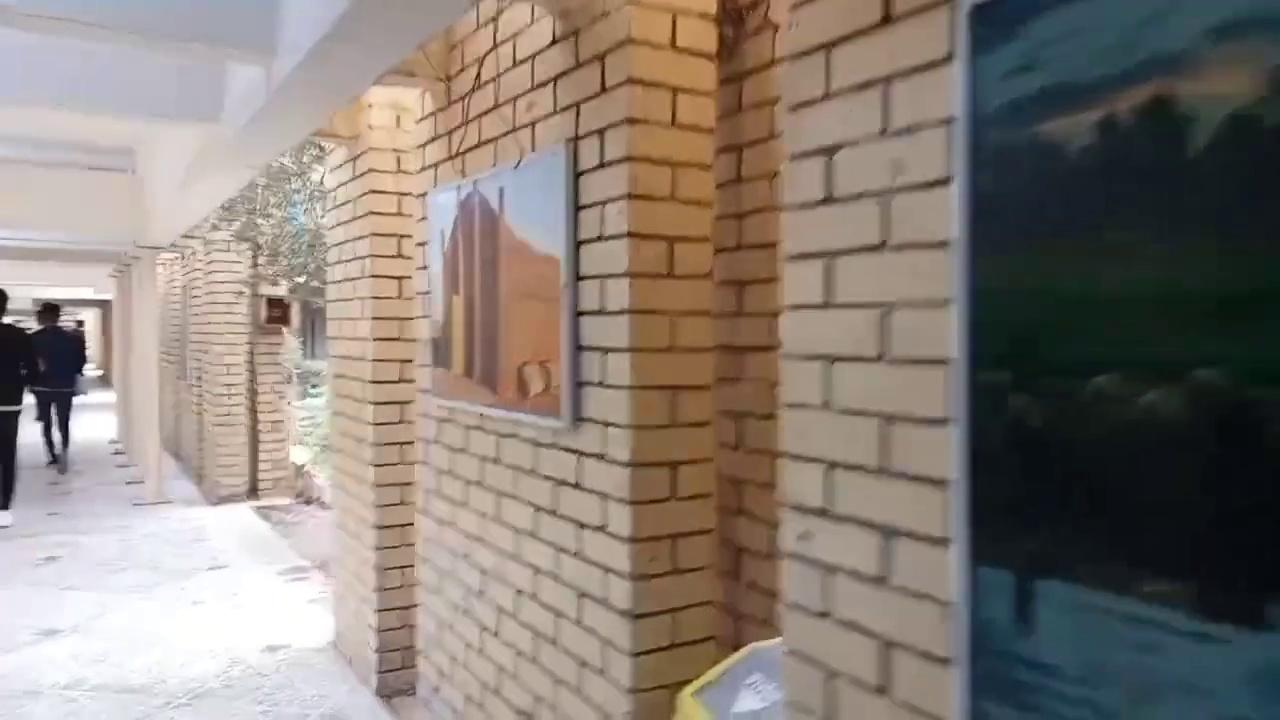person: (27, 301, 86, 465), (0, 287, 40, 527)
tree: (158, 144, 336, 512), (210, 137, 333, 293)
